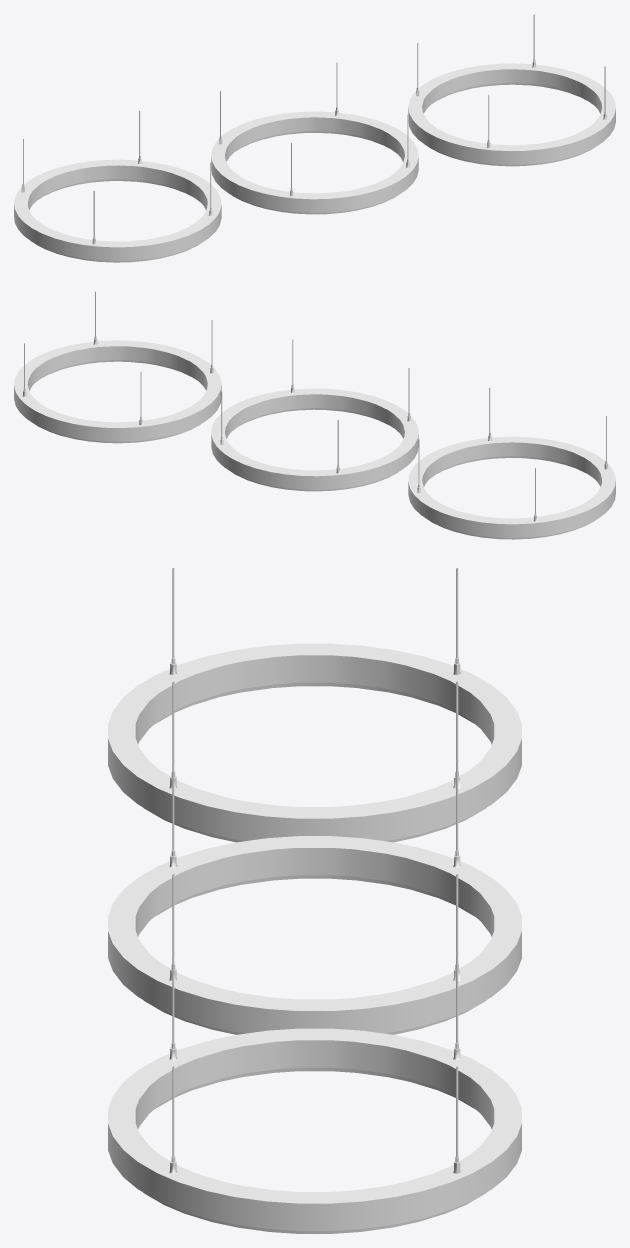
Rendered from Lamps.fbx.
3 views of the same model, one above another, from view 1: azimuth 30°, elevation 25°; view 2: azimuth 150°, elevation 25°; view 3: azimuth 270°, elevation 25° (orthographic). The views are drawn at different scales.
Visible parts, largest first — view 1: Lamps 1; view 2: Lamps 1; view 3: Lamps 1.
Part boxes in pixels (box(x1,y1,x2,y2)): Lamps 1: box(14, 14, 615, 262); Lamps 1: box(14, 291, 615, 539); Lamps 1: box(108, 568, 521, 1233).
Size of the model in its own units: 5290 by 613 by 1653.
2 materials, 1 textured.
